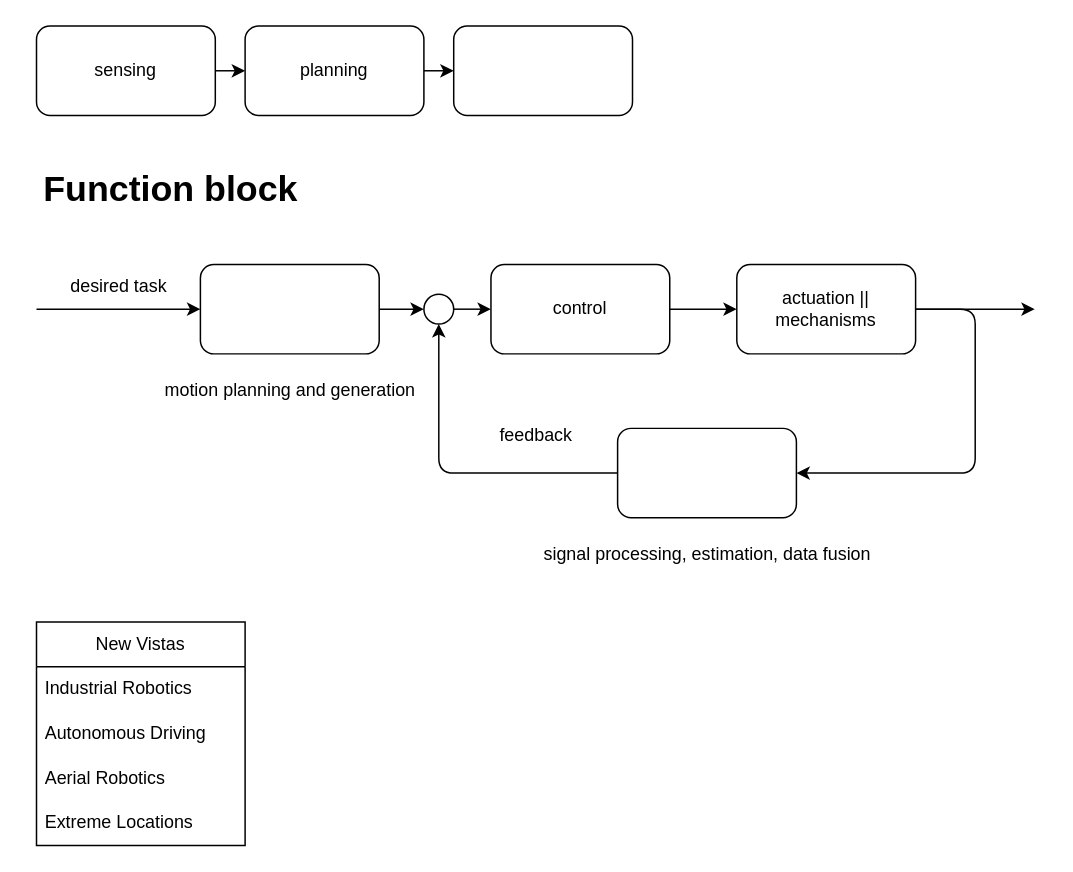
This 1073x872 diagram has some shape labels left out. The centre of each missing label's shape, as x and y in pixels:
"actuation" goes at (542,70).
"feedforward" goes at (289,308).
"sensors" goes at (706,472).
